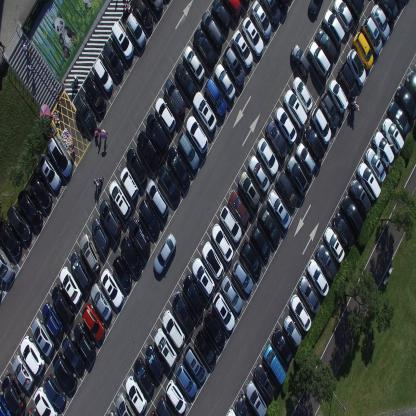car: (47, 134, 73, 178), (144, 113, 169, 156), (17, 188, 43, 229), (166, 145, 190, 189), (136, 128, 160, 172), (153, 231, 177, 275), (1, 373, 26, 415), (283, 88, 308, 130), (6, 203, 32, 243), (193, 90, 217, 133), (52, 351, 77, 392), (262, 344, 287, 385), (191, 256, 215, 298), (108, 180, 132, 222), (267, 188, 291, 230), (184, 342, 208, 384), (258, 204, 282, 245), (100, 268, 124, 309), (20, 335, 44, 376), (31, 317, 55, 358), (357, 161, 381, 202), (81, 303, 106, 342), (158, 164, 181, 206), (172, 290, 195, 332), (154, 327, 177, 369), (51, 284, 74, 326), (286, 154, 309, 196), (145, 180, 169, 220), (176, 131, 200, 171), (72, 321, 96, 361), (62, 334, 86, 374), (37, 154, 62, 192), (212, 291, 235, 332), (211, 222, 234, 262), (201, 241, 224, 281), (120, 236, 143, 276), (98, 199, 121, 239), (185, 114, 208, 154), (203, 309, 226, 349), (194, 326, 217, 366), (162, 309, 185, 349), (193, 28, 216, 68), (137, 200, 161, 238), (162, 77, 184, 118), (182, 274, 204, 315), (70, 250, 92, 291), (205, 77, 227, 118), (250, 0, 272, 41), (223, 45, 245, 86), (242, 16, 264, 57), (84, 75, 106, 116), (227, 189, 250, 228), (274, 106, 297, 145), (306, 258, 329, 297), (29, 171, 52, 210), (111, 21, 134, 60), (79, 232, 100, 274), (128, 217, 150, 257), (90, 283, 112, 323), (214, 62, 236, 102), (248, 154, 270, 194), (360, 14, 382, 54), (298, 274, 320, 314), (254, 362, 276, 402), (125, 374, 147, 414), (43, 372, 66, 410), (322, 10, 345, 48), (381, 116, 404, 154), (315, 244, 338, 282), (101, 40, 124, 78), (238, 170, 260, 209), (125, 148, 147, 187), (240, 238, 262, 277), (220, 275, 242, 314), (59, 266, 81, 305), (183, 44, 205, 83), (201, 10, 223, 49), (257, 137, 279, 176), (271, 327, 293, 366), (74, 92, 96, 131), (219, 205, 242, 242), (349, 178, 372, 215), (340, 196, 363, 233), (233, 28, 254, 68), (153, 96, 175, 134), (12, 354, 34, 392), (265, 120, 287, 158), (308, 40, 330, 78), (276, 171, 298, 209), (352, 32, 374, 70), (372, 130, 394, 168), (290, 293, 312, 331), (175, 362, 197, 400), (0, 218, 22, 256), (304, 124, 325, 163), (174, 62, 196, 99), (388, 100, 410, 137), (332, 212, 354, 249), (323, 226, 345, 263), (165, 378, 187, 415), (245, 380, 268, 415), (320, 91, 340, 131), (396, 83, 416, 123), (134, 356, 154, 396), (292, 76, 313, 114), (365, 146, 386, 184), (250, 224, 272, 260), (42, 302, 64, 338), (32, 386, 58, 416), (311, 106, 331, 144), (338, 62, 358, 100), (346, 48, 366, 86), (370, 4, 390, 42), (232, 259, 253, 295), (316, 27, 337, 63), (130, 0, 154, 31), (126, 12, 146, 49), (112, 254, 132, 290), (296, 142, 316, 178), (119, 167, 139, 202), (290, 43, 310, 78), (328, 78, 348, 113), (332, 0, 353, 33), (145, 343, 164, 379), (93, 58, 113, 92), (91, 217, 110, 252), (282, 314, 302, 347), (0, 243, 15, 283), (260, 0, 282, 26), (211, 0, 230, 30), (375, 0, 399, 23), (115, 390, 136, 415), (343, 0, 364, 20), (155, 394, 175, 415), (235, 394, 253, 416), (221, 0, 241, 19), (0, 389, 13, 416), (406, 69, 416, 101), (145, 0, 164, 15), (307, 0, 323, 15), (275, 0, 291, 12), (25, 406, 37, 416), (225, 407, 237, 415), (107, 408, 118, 416), (149, 409, 157, 415)
